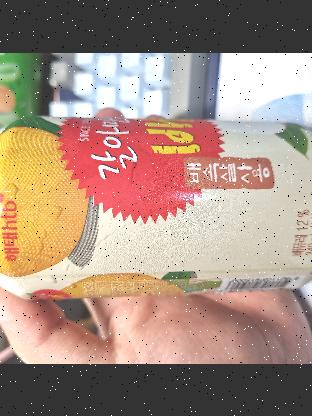Can: (0, 106, 312, 299)
